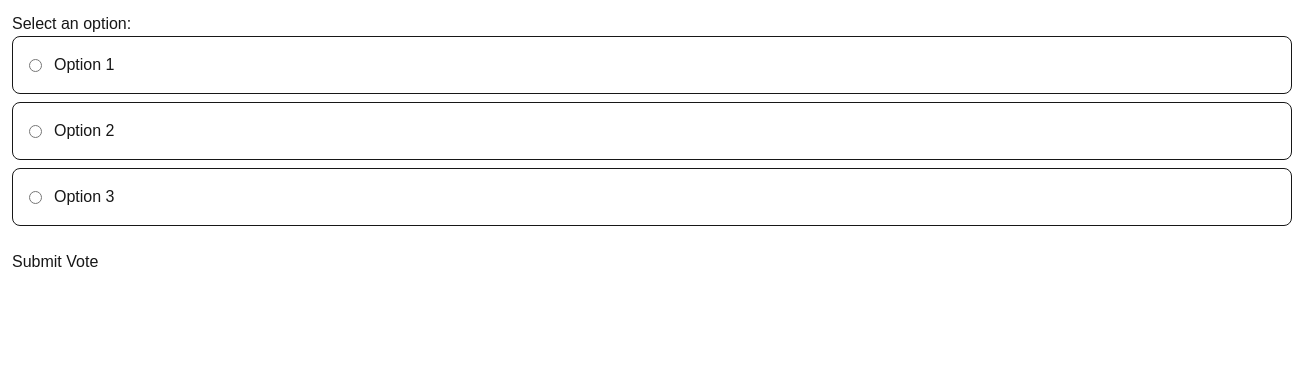
Test: PollVoteForm › handles voting errors correctly
# Select an option
Click the radio button showing "option-1".
click(36, 65)  # box [29, 58, 42, 72]
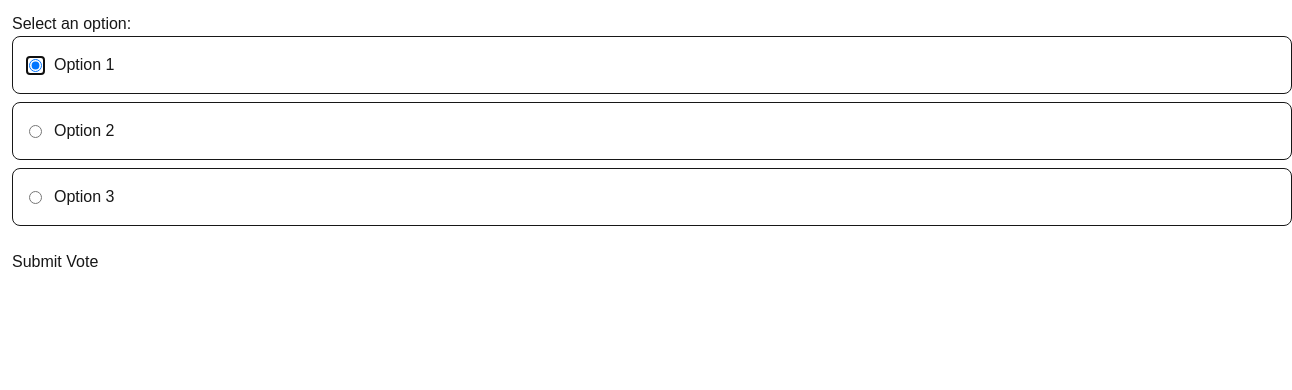
# Submit vote
Click the button "Submit Vote".
click(55, 262)  # box [12, 250, 98, 274]
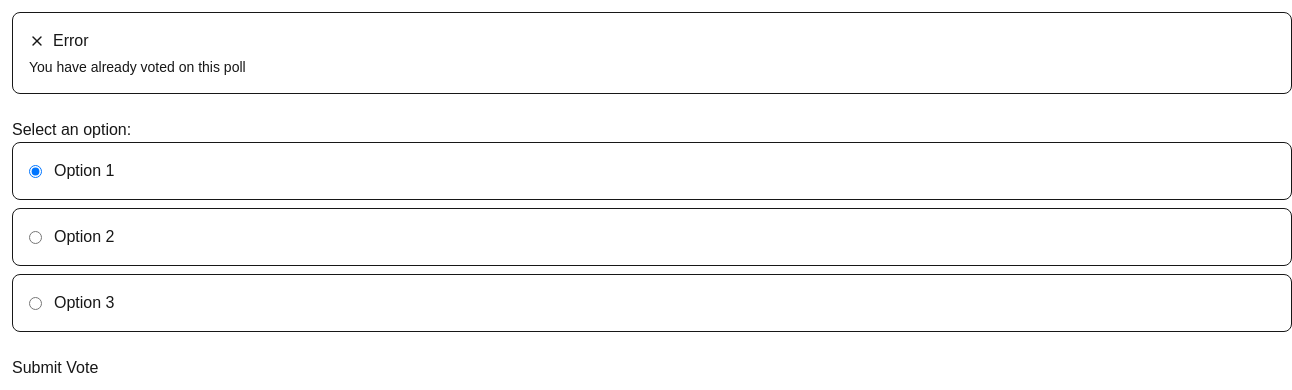
Check: the text "Error" is shown, box [53, 29, 89, 53]
Check: the text "You have already voted on this poll" is shown, box [29, 59, 246, 75]
